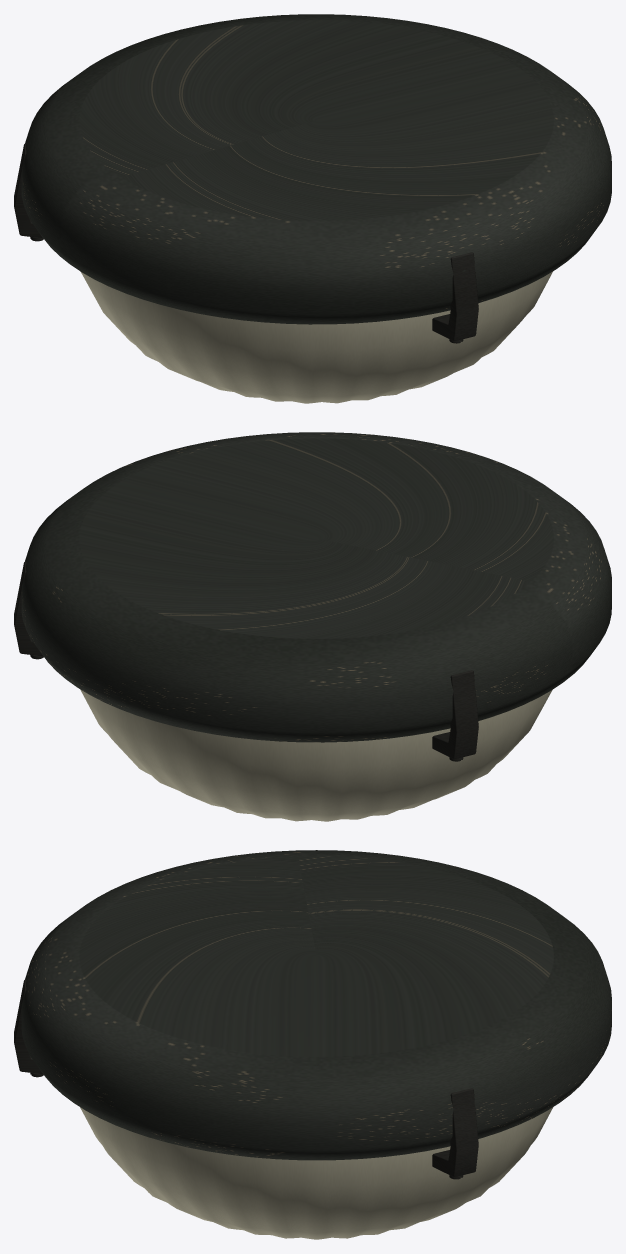
Rendered from EntranceLamp.fbx.
3 renders of one model, top to bottom at view 1: azimuth 30°, elevation 25°; view 2: azimuth 150°, elevation 25°; view 3: azimuth 270°, elevation 25°, orthographic.
Visible parts, largest first — view 1: LampMetal, LampGlass, LampFasteners; view 2: LampMetal, LampGlass, LampFasteners; view 3: LampMetal, LampGlass, LampFasteners.
Boxes of the visible parts, left/top/right/bottom form: LampMetal: left=21, top=14, right=611, bottom=324; LampGlass: left=81, top=271, right=552, bottom=403; LampFasteners: left=14, top=143, right=478, bottom=343; LampMetal: left=21, top=432, right=611, bottom=742; LampGlass: left=80, top=689, right=552, bottom=821; LampFasteners: left=14, top=561, right=478, bottom=761; LampMetal: left=21, top=850, right=611, bottom=1160; LampGlass: left=80, top=1107, right=553, bottom=1239; LampFasteners: left=14, top=979, right=478, bottom=1179.
Size of the model in its own units: 40.4 by 18.3 by 40.9.
3 materials, 3 textured.
